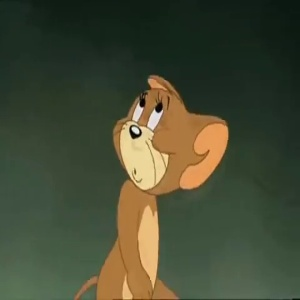Jerry: (106, 68, 233, 194)
